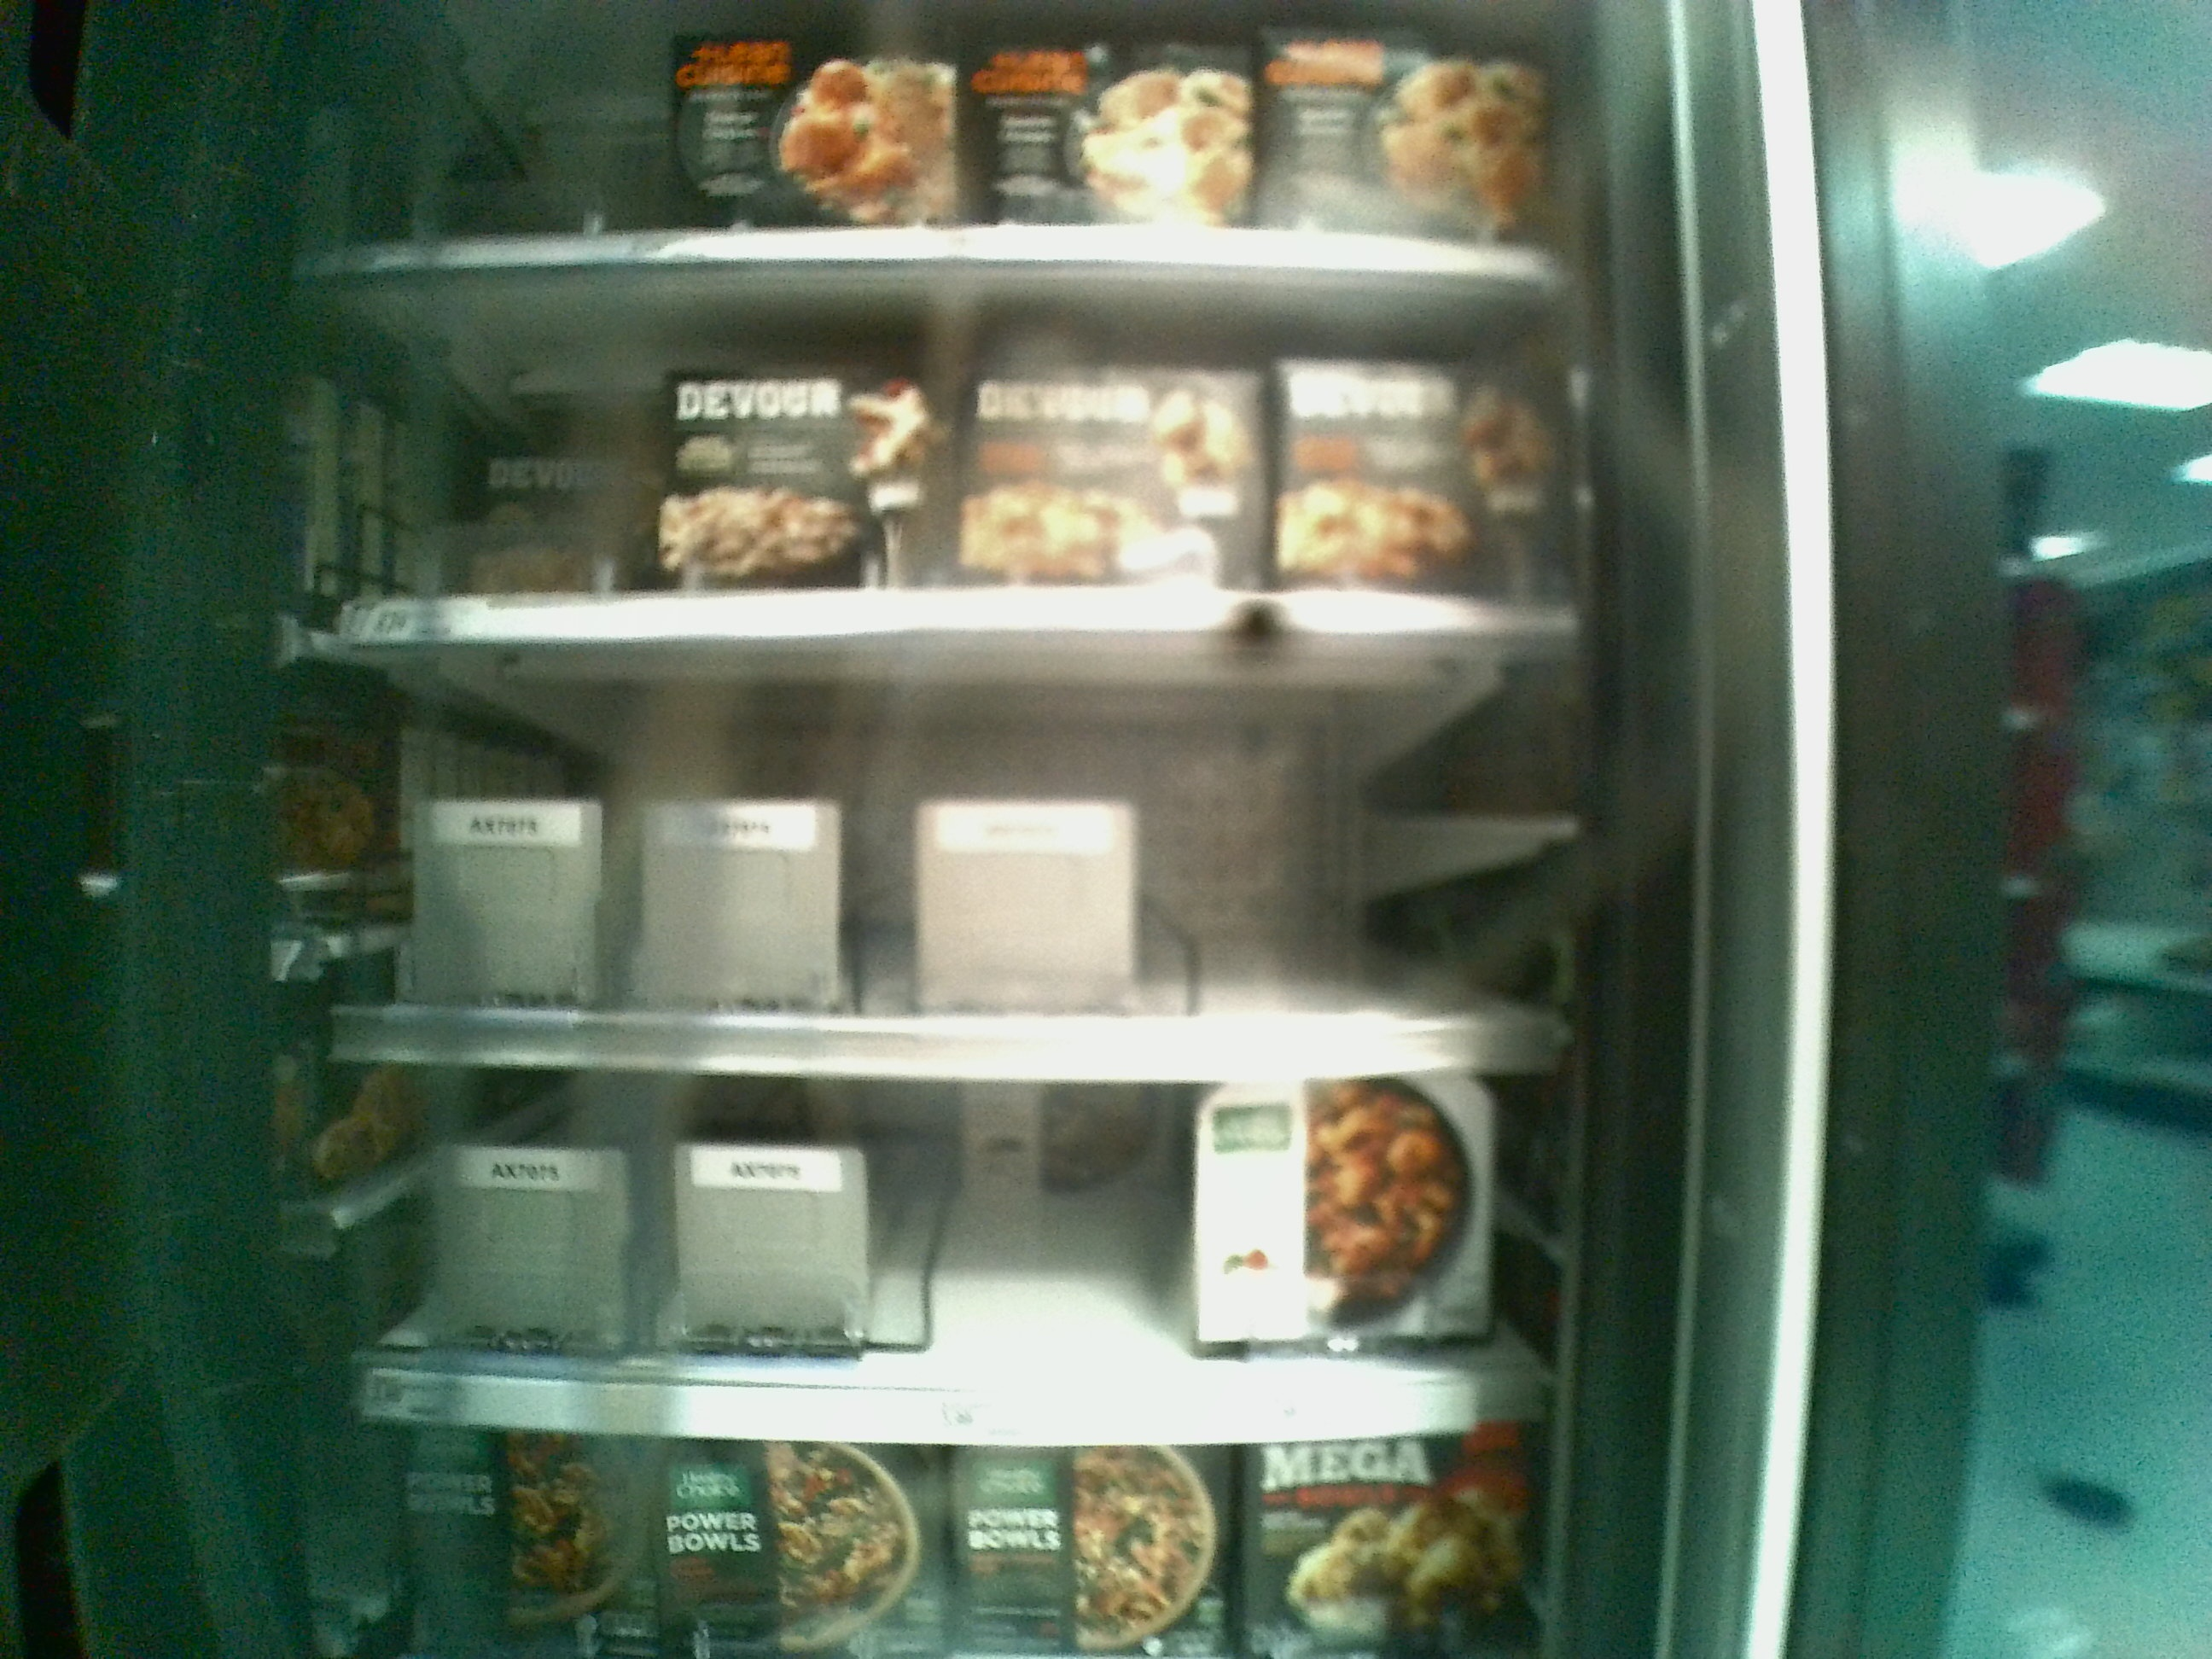shelf: (314, 636, 1590, 1073), (341, 1054, 1578, 1445), (320, 261, 1583, 641)
